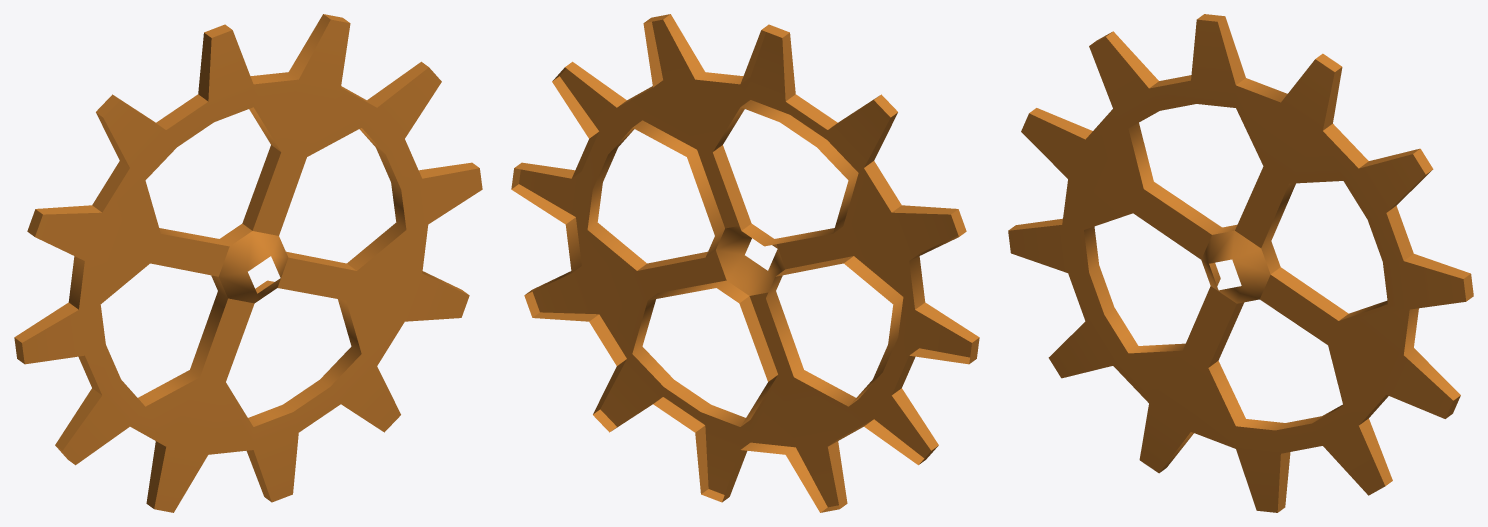
Rendered from cog_04.fbx.
3 renders of one model, left to right at view 1: azimuth 30°, elevation 25°; view 2: azimuth 150°, elevation 25°; view 3: azimuth 330°, elevation 25°, orthographic.
Visible parts, largest first — view 1: cog_04; view 2: cog_04; view 3: cog_04.
Part boxes in pixels (box(x1,y1,x2,y2)): cog_04: box(14, 14, 482, 512); cog_04: box(511, 14, 979, 512); cog_04: box(1008, 14, 1473, 512).
Size of the model in its own units: 189 by 189 by 14.79.
